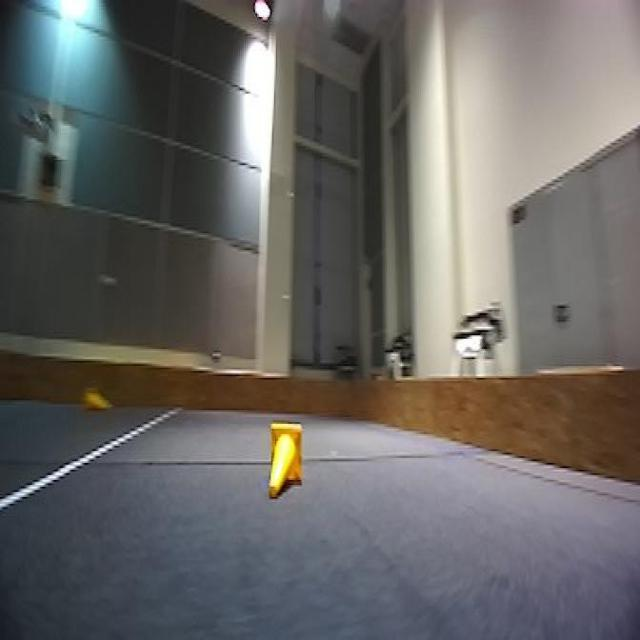frc_cone: (268, 416, 304, 496), (82, 381, 111, 414)
